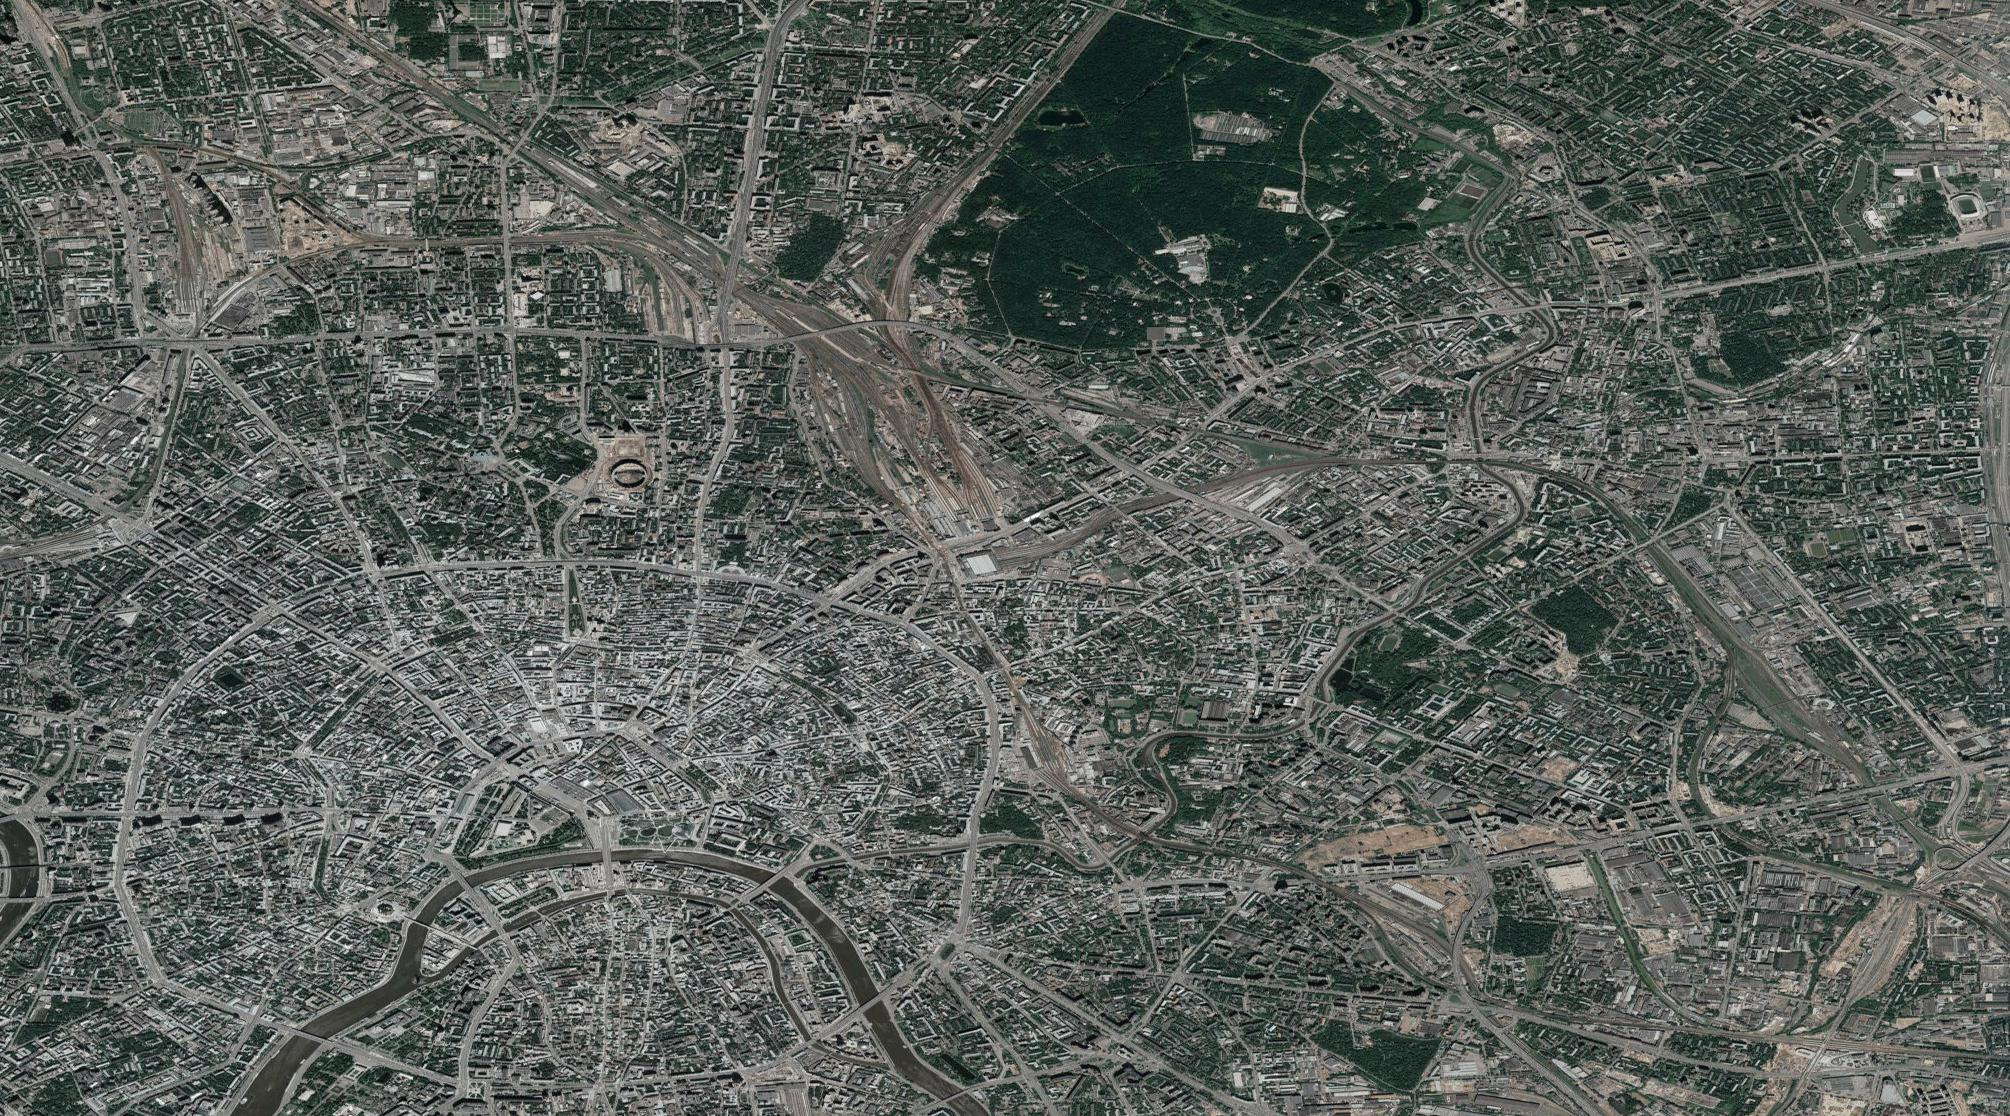bridge: (786, 319, 931, 344), (855, 990, 888, 1016), (290, 1023, 328, 1043), (756, 869, 787, 893), (942, 1084, 969, 1112), (449, 871, 475, 895), (407, 913, 433, 930), (600, 847, 616, 870)
train_station: (948, 537, 1032, 585)
